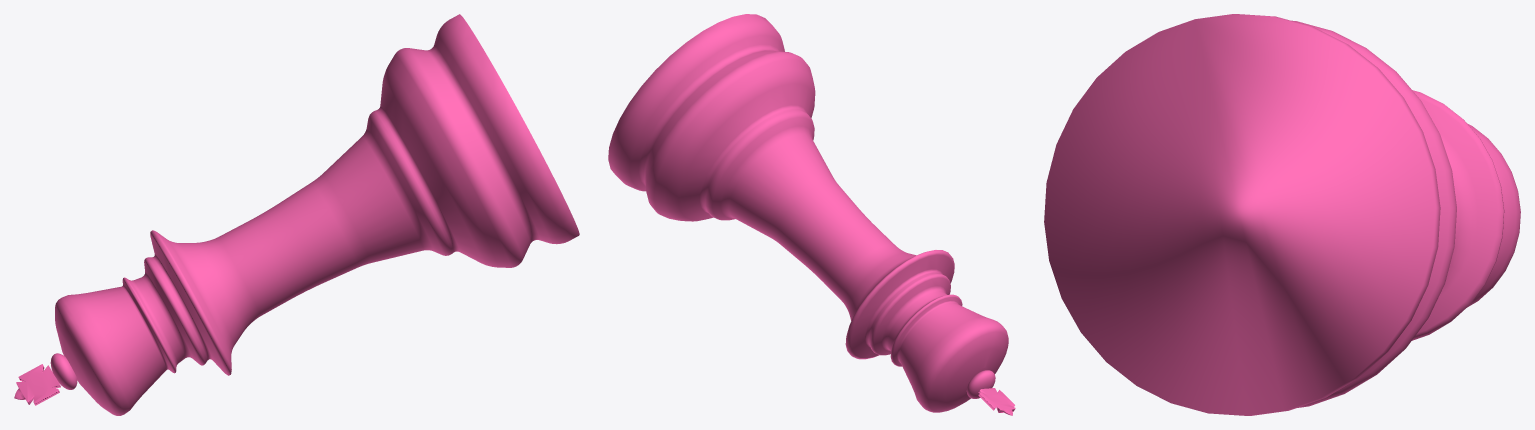
File: dark_king_2.fbx
The picture shows the model from 3 angles, left to right: view 1: azimuth 30°, elevation 25°; view 2: azimuth 150°, elevation 25°; view 3: azimuth 270°, elevation 25°; orthographic projection. The views are drawn at different scales.
Parts seen in each view (by area): view 1: Dark King2; view 2: Dark King2; view 3: Dark King2.
Boxes of the visible parts, left/top/right/bottom form: Dark King2: left=14, top=14, right=579, bottom=415; Dark King2: left=608, top=14, right=1015, bottom=415; Dark King2: left=1044, top=14, right=1520, bottom=415.
Bounding box in the file's own units: 59.34 × 39.42 × 31.29.
